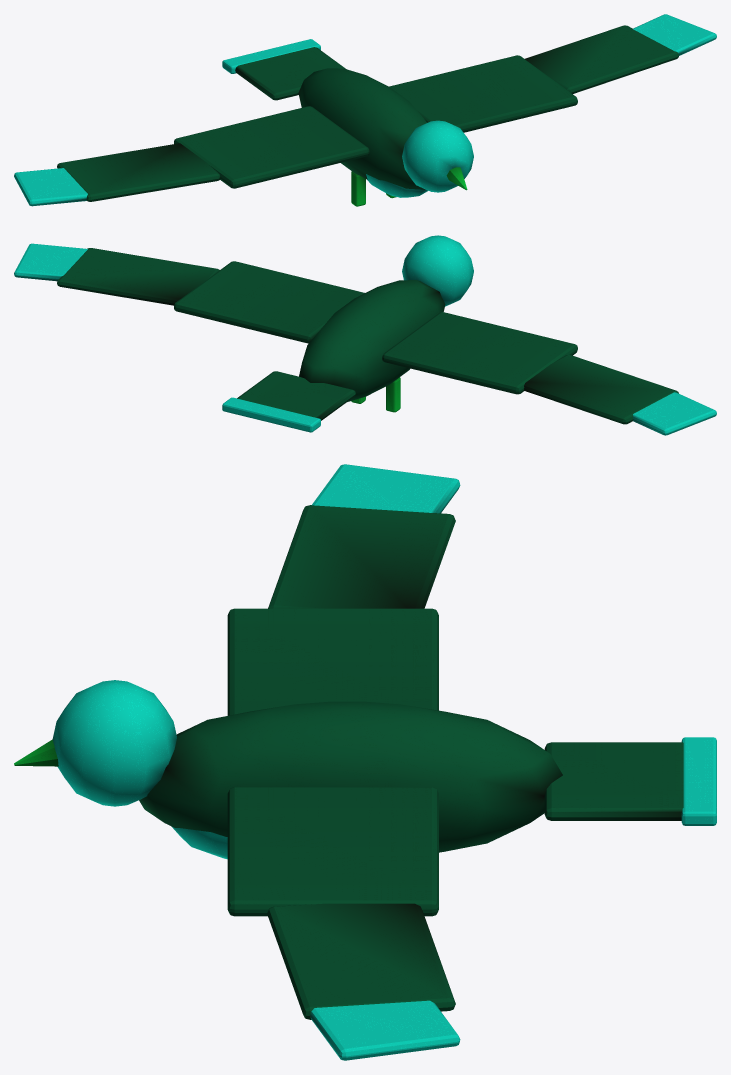
Rendered from hawk.glb.
3 renders of one model, top to bottom at view 1: azimuth 30°, elevation 25°; view 2: azimuth 150°, elevation 25°; view 3: azimuth 270°, elevation 25°, orthographic. The views are drawn at different scales.
Visible parts, largest first — view 1: body, wing_L, wing_R; view 2: body, wing_L, wing_R; view 3: body, wing_R, wing_L.
Part boxes in pixels (x1,y1,x2,y2): body: (222, 39, 473, 206); wing_L: (14, 106, 369, 206); wing_R: (389, 14, 716, 132); body: (222, 235, 473, 432); wing_L: (382, 312, 716, 435); wing_R: (14, 243, 364, 343); body: (14, 680, 716, 859); wing_R: (227, 787, 460, 1060); wing_L: (227, 464, 460, 715).
Size of the model in its own units: 1.98 by 0.335 by 0.9986.
1 material, 1 textured.
